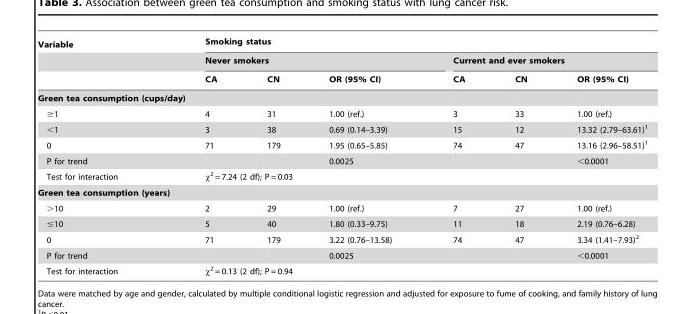table: (37, 36, 646, 275)
table column: (37, 36, 160, 275), (304, 36, 421, 275), (551, 36, 646, 275), (160, 36, 241, 275), (421, 36, 489, 275), (241, 36, 304, 275), (489, 36, 551, 275)
table column header: (37, 36, 646, 88)
table projected row header: (37, 88, 646, 105), (37, 184, 646, 200)
table row: (37, 69, 646, 88), (37, 52, 646, 69), (37, 88, 646, 105), (37, 167, 646, 184), (37, 230, 646, 247), (37, 36, 646, 52), (37, 120, 646, 136), (37, 136, 646, 152), (37, 184, 646, 200), (37, 105, 646, 120), (37, 152, 646, 167), (37, 200, 646, 215), (37, 215, 646, 230), (37, 247, 646, 262), (37, 262, 646, 275)
table spanning cell: (160, 167, 646, 184), (160, 36, 646, 52), (37, 36, 160, 88), (160, 262, 646, 275), (160, 52, 421, 69), (421, 52, 646, 69)
